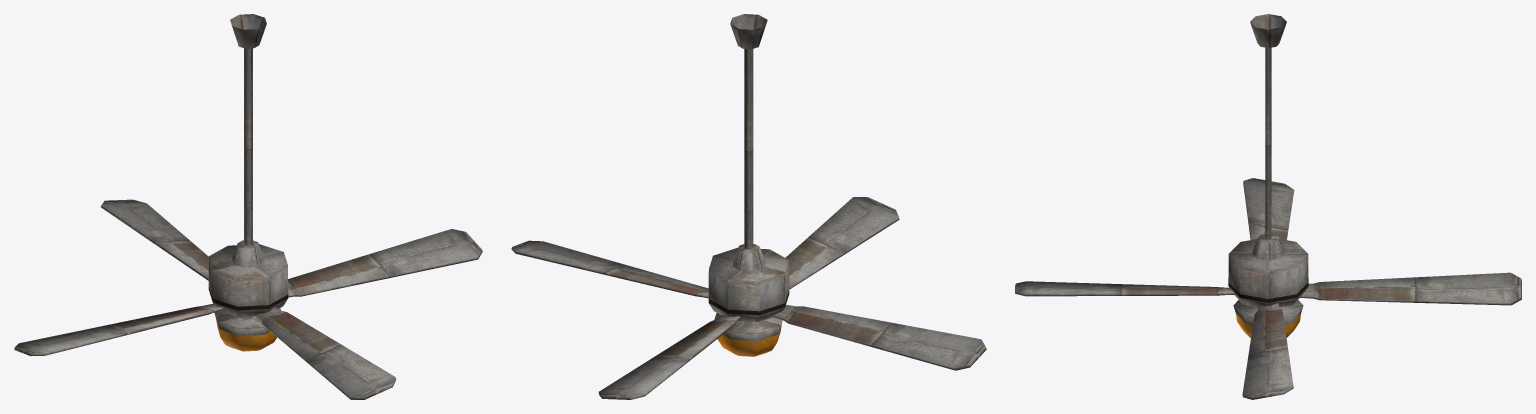
Rendered from ceiling_fan.glb.
The picture shows the model from 3 angles, left to right: view 1: azimuth 30°, elevation 25°; view 2: azimuth 150°, elevation 25°; view 3: azimuth 270°, elevation 25°; orthographic projection. The views are drawn at different scales.
Visible parts, largest first — view 1: Cube.243, Cube.227, Cube.244; view 2: Cube.243, Cube.227, Cube.244; view 3: Cube.243, Cube.227, Cube.244.
Boxes of the visible parts, left/top/right/bottom form: Cube.243: left=14, top=199, right=482, bottom=399; Cube.227: left=208, top=244, right=288, bottom=351; Cube.244: left=230, top=14, right=266, bottom=267; Cube.243: left=511, top=197, right=986, bottom=399; Cube.227: left=708, top=247, right=789, bottom=356; Cube.244: left=730, top=14, right=767, bottom=271; Cube.243: left=1015, top=178, right=1521, bottom=399; Cube.227: left=1228, top=239, right=1308, bottom=338; Cube.244: left=1250, top=14, right=1286, bottom=260.
Size of the model in its own units: 3.84 by 2.61 by 3.84.
Materials: 3 (3 with a texture image).
